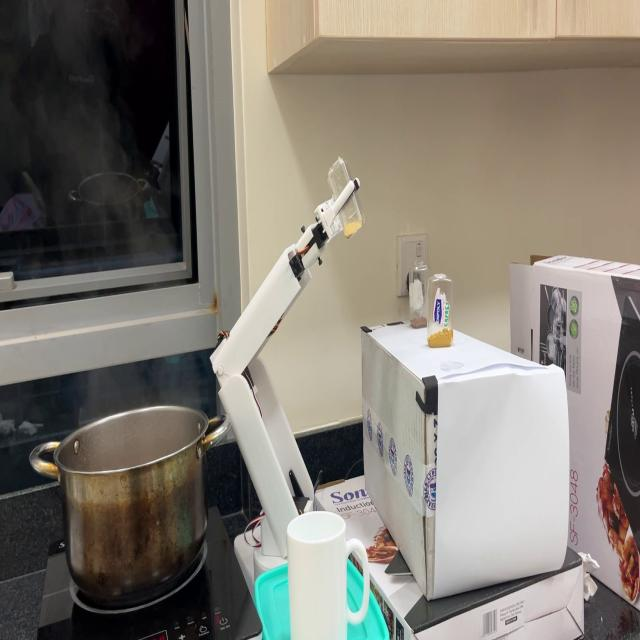cooking_pot: (24, 406, 238, 596)
curry_powder: (429, 323, 454, 347)
garlic_powder: (343, 215, 362, 241)
maggie_open: (410, 315, 428, 330)
